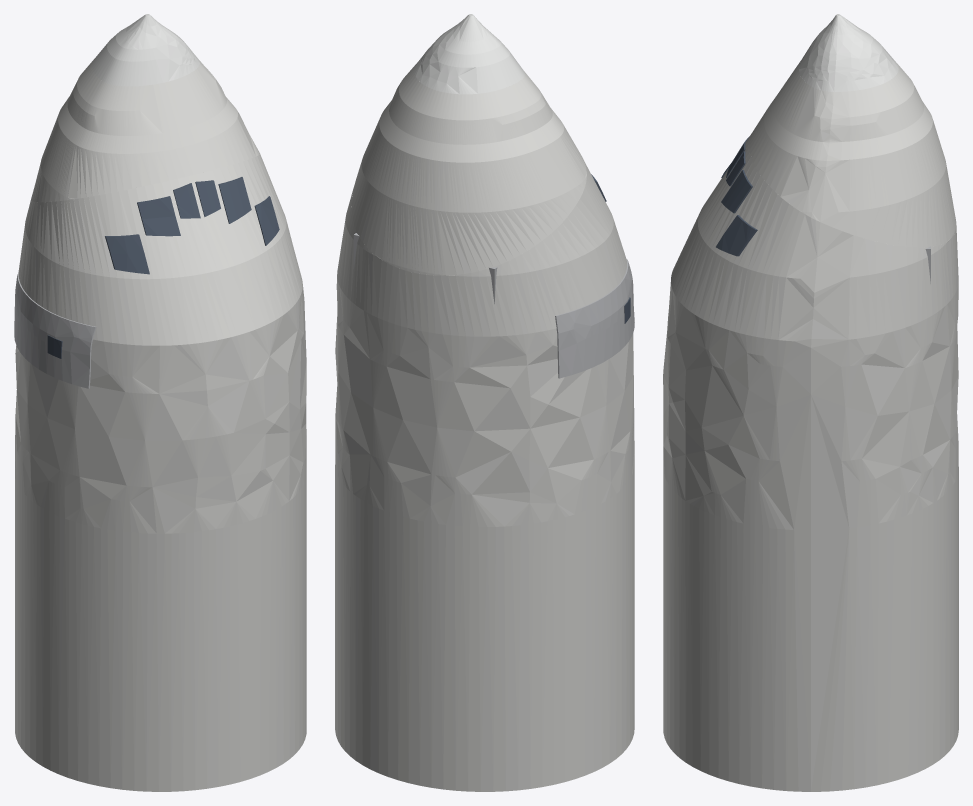
The model's file is cockpit03_airliner_flight_deck.glb.
3 renders of one model, left to right at view 1: azimuth 30°, elevation 25°; view 2: azimuth 150°, elevation 25°; view 3: azimuth 270°, elevation 25°, orthographic. The views are drawn at different scales.
Visible parts, largest first — view 1: fuselage, nose_visor, flight_deck_windows, radome, crew_door; view 2: fuselage, nose_visor, radome, crew_door; view 3: fuselage, nose_visor, radome, flight_deck_windows.
Part boxes in pixels (bbox=[...]): fuselage: bbox=[15, 154, 306, 791]; nose_visor: bbox=[31, 59, 259, 202]; flight_deck_windows: bbox=[47, 177, 279, 358]; radome: bbox=[92, 14, 199, 86]; crew_door: bbox=[14, 274, 96, 388]; fuselage: bbox=[335, 160, 634, 791]; nose_visor: bbox=[351, 62, 586, 275]; radome: bbox=[414, 14, 524, 94]; crew_door: bbox=[555, 259, 634, 378]; fuselage: bbox=[663, 133, 958, 791]; nose_visor: bbox=[749, 61, 956, 247]; radome: bbox=[799, 14, 898, 91]; flight_deck_windows: bbox=[716, 136, 757, 256].
Bounding box in the file's own units: 3.76 × 10 × 3.75.
